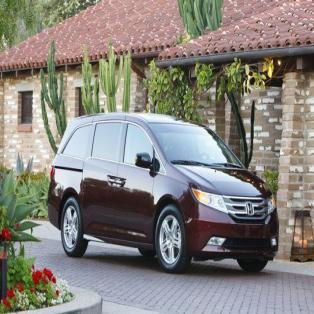Auto: (47, 112, 279, 274)
